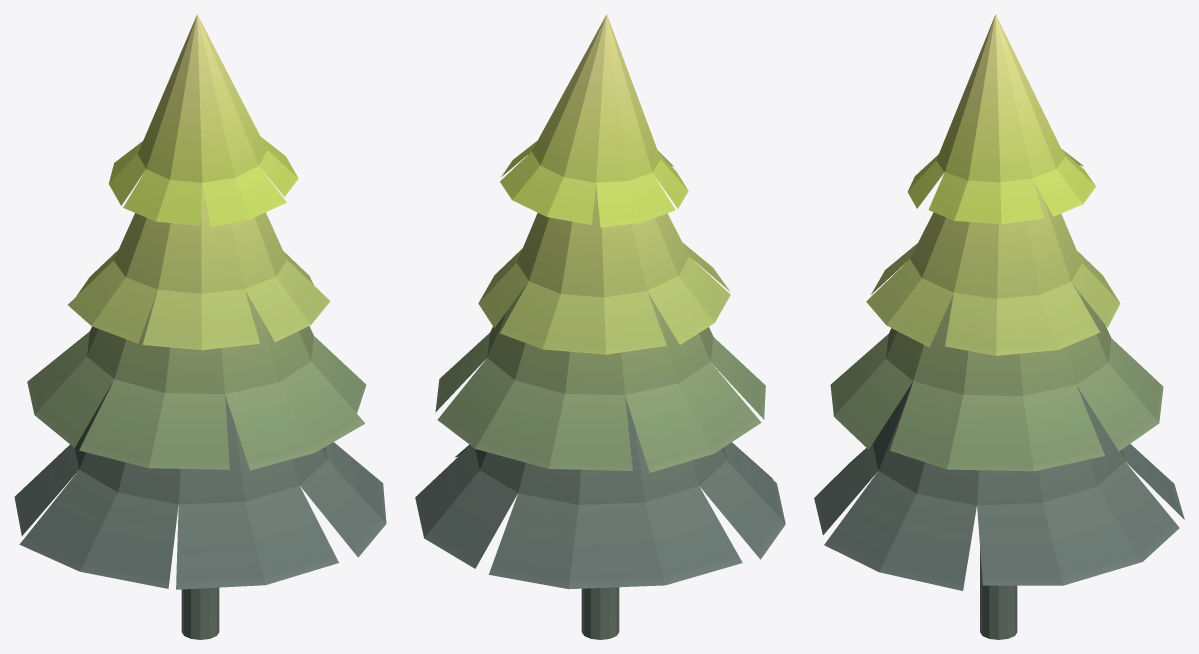
Rendered from tree01.glb.
3 views of the same model, side by side, from view 1: azimuth 30°, elevation 25°; view 2: azimuth 150°, elevation 25°; view 3: azimuth 270°, elevation 25° (orthographic).
Parts seen in each view (by area): view 1: 柱体.003, 柱体.004; view 2: 柱体.003, 柱体.004; view 3: 柱体.003, 柱体.004.
Part boxes in pixels (box(x1,y1,x2,y2)): 柱体.003: box(14, 14, 386, 589); 柱体.004: box(181, 587, 219, 639); 柱体.003: box(415, 14, 785, 589); 柱体.004: box(581, 587, 619, 639); 柱体.003: box(814, 14, 1184, 590); 柱体.004: box(980, 548, 1017, 639).
Size of the model in its own units: 3.29 by 5.8 by 3.17.
2 materials, 2 textured.
